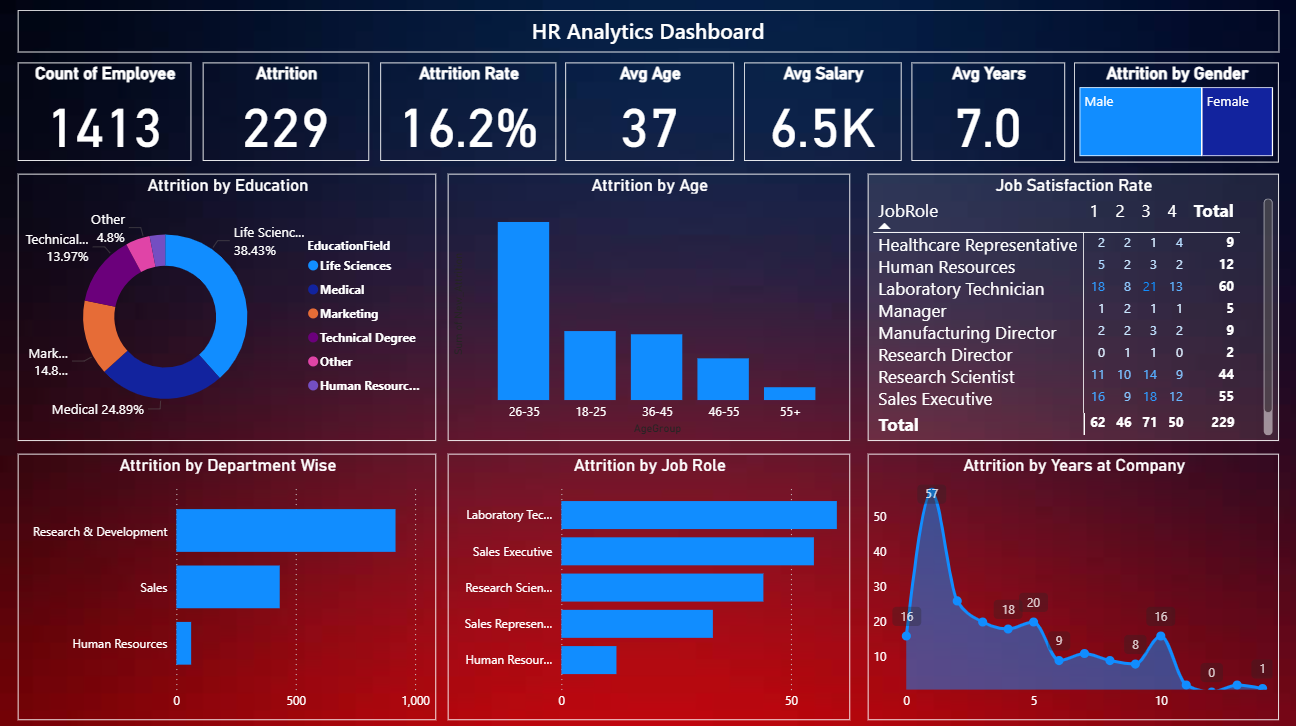

What the dashboard file says about the page in this screenshot:
{"tool":"powerbi","page":{"name":"Page 1","canvas":[1300,730],"ordinal":0},"visuals":[{"type":"card","title":"Avg Salary ","fields":{"Values":["Avg(dataset.MonthlyIncome)"]},"box":[745,62.5,157.5,98.8],"z":0},{"type":"card","title":"Avg Age","fields":{"Values":["Avg(dataset.Age)"]},"box":[566.2,62.5,168.8,98.8],"z":1000},{"type":"card","title":"Attrition Rate","fields":{"Values":["dataset.Attrition_Rate"]},"box":[381.2,62.5,176.2,98.8],"z":2000},{"type":"card","title":"Count of Employee","fields":{"Values":["CountNonNull(dataset.EmpID)"]},"box":[18.8,62.5,173.8,98.8],"z":3000},{"type":"card","title":"Attrition","fields":{"Values":["select","Sum(dataset.New_Attrition)"]},"box":[203.8,62.5,166.2,98.8],"z":4000},{"type":"card","title":"Avg Years","fields":{"Values":["Avg(dataset.YearsAtCompany)"]},"box":[912.5,62.5,153.8,98.8],"z":5000},{"type":"donutChart","title":"Attrition by Education ","fields":{"Category":["dataset.EducationField"],"Y":["Sum(dataset.New_Attrition)"]},"box":[18.8,173.8,418.8,267.5],"z":6000},{"type":"columnChart","title":"Attrition by Age","fields":{"Y":["Sum(dataset.New_Attrition)"],"Category":["dataset.AgeGroup"]},"box":[448.8,173.8,402.5,267.5],"z":7000},{"type":"clusteredBarChart","title":"Attrition by Department Wise","fields":{"Category":["dataset.Department"],"Y":["CountNonNull(dataset.New_Attrition)","select"]},"box":[18.8,453.8,418.8,266.2],"z":8000},{"type":"barChart","title":"Attrition by Job Role","fields":{"Category":["dataset.JobRole"],"Y":["Sum(dataset.New_Attrition)"]},"box":[448.8,453.8,402.5,266.2],"z":9000},{"type":"areaChart","title":"Attrition by Years at Company","fields":{"Category":["dataset.YearsAtCompany"],"Y":["Sum(dataset.New_Attrition)"]},"box":[868.8,453.8,411.2,266.2],"z":10000},{"type":"pivotTable","title":"Job Satisfaction Rate","fields":{"Rows":["dataset.JobRole"],"Values":["Sum(dataset.New_Attrition)"],"Columns":["dataset.JobSatisfaction"]},"box":[868.8,173.8,411.2,267.5],"z":11000},{"type":"treemap","title":"Attrition by Gender","fields":{"Values":["Sum(dataset.New_Attrition)"],"Group":["dataset.Gender"]},"box":[1075,62.5,205,100],"z":12000},{"type":"textbox","box":[18.8,10,1261.2,42.5],"z":13000}]}

Visuals, with their boxes in screenshot pixels (x1, y1, x2, y2), scaled from the page's 1300x730 canvas onto the 1296x726 screenshot:
"Avg Salary " card: x1=743 y1=62 x2=900 y2=160
"Avg Age" card: x1=564 y1=62 x2=733 y2=160
"Attrition Rate" card: x1=380 y1=62 x2=556 y2=160
"Count of Employee" card: x1=19 y1=62 x2=192 y2=160
"Attrition" card: x1=203 y1=62 x2=369 y2=160
"Avg Years" card: x1=910 y1=62 x2=1063 y2=160
"Attrition by Education " donutChart: x1=19 y1=173 x2=436 y2=439
"Attrition by Age" columnChart: x1=447 y1=173 x2=849 y2=439
"Attrition by Department Wise" clusteredBarChart: x1=19 y1=451 x2=436 y2=716
"Attrition by Job Role" barChart: x1=447 y1=451 x2=849 y2=716
"Attrition by Years at Company" areaChart: x1=866 y1=451 x2=1276 y2=716
"Job Satisfaction Rate" pivotTable: x1=866 y1=173 x2=1276 y2=439
"Attrition by Gender" treemap: x1=1072 y1=62 x2=1276 y2=162
textbox: x1=19 y1=10 x2=1276 y2=52
